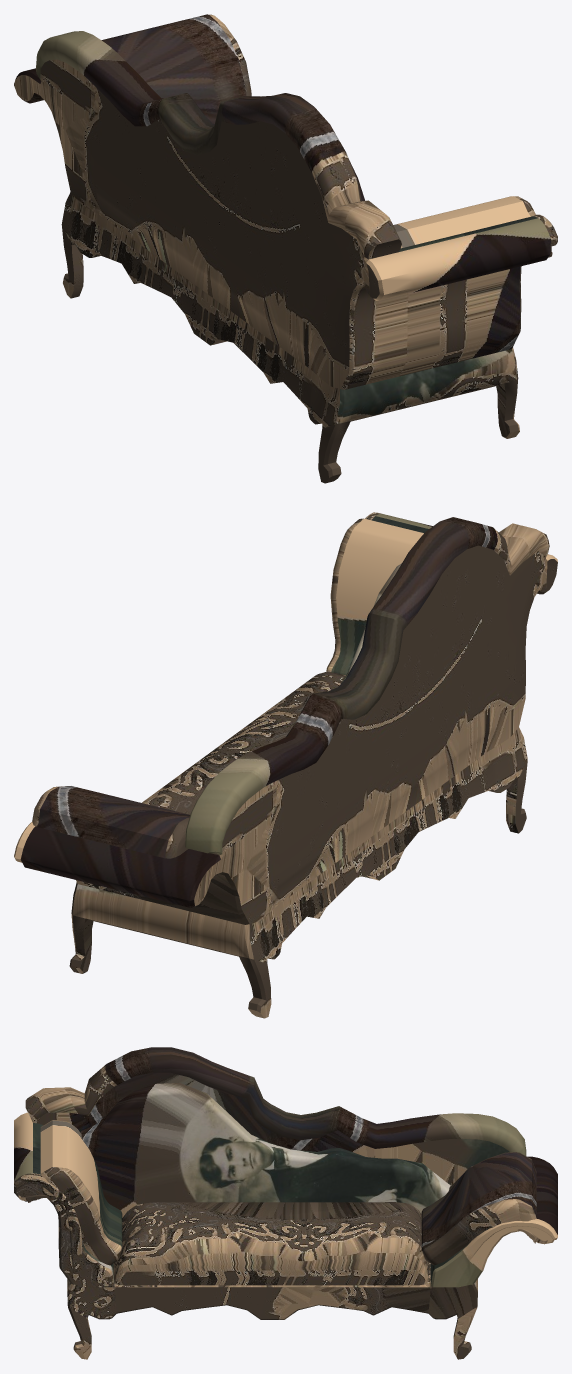
Rendered from Sofa.fbx.
The picture shows the model from 3 angles, top to bottom: view 1: azimuth 30°, elevation 25°; view 2: azimuth 150°, elevation 25°; view 3: azimuth 270°, elevation 25°; orthographic projection. The views are drawn at different scales.
Parts seen in each view (by area): view 1: defaultMaterial; view 2: defaultMaterial; view 3: defaultMaterial.
Boxes of the visible parts, bbox=[...] form: defaultMaterial: bbox=[14, 14, 557, 483]; defaultMaterial: bbox=[14, 512, 557, 1018]; defaultMaterial: bbox=[14, 1047, 557, 1359].
Size of the model in its own units: 59.96 by 101 by 200.
